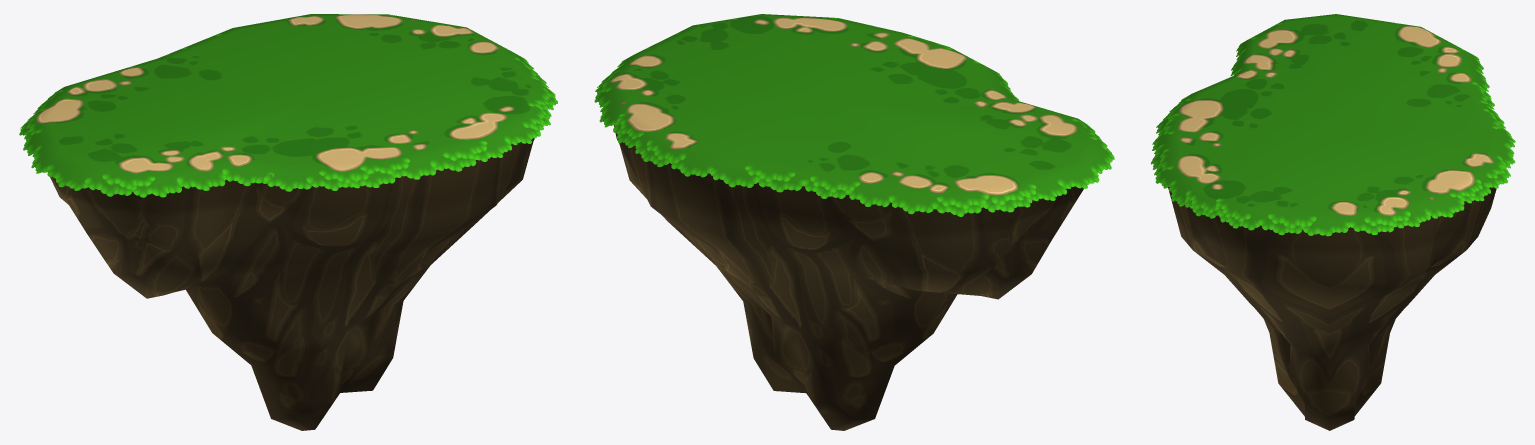
File: Island_05.FBX
3 renders of one model, left to right at view 1: azimuth 30°, elevation 25°; view 2: azimuth 150°, elevation 25°; view 3: azimuth 270°, elevation 25°, orthographic. The views are drawn at different scales.
Visible parts, largest first — view 1: Island_05; view 2: Island_05; view 3: Island_05.
Part boxes in pixels (x1,y1,x2,y2): Island_05: [19, 14, 557, 430]; Island_05: [594, 14, 1114, 430]; Island_05: [1151, 14, 1515, 430].
Bounding box in the file's own units: 868 × 560 × 620.
